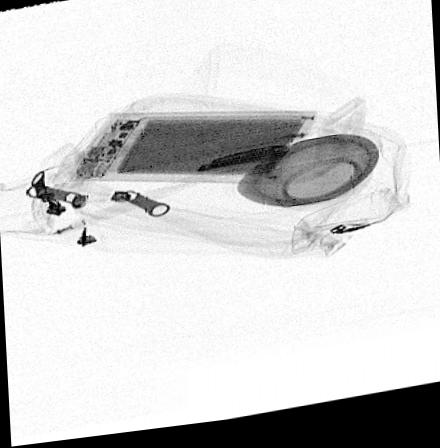Powerbank: (67, 114, 321, 192)
